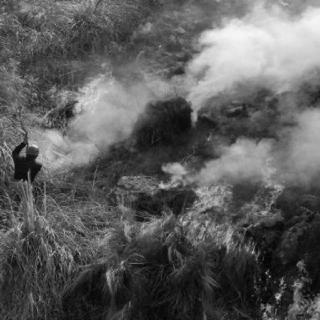Fire: (183, 170, 271, 257), (41, 68, 116, 136), (244, 262, 318, 318)
Smoke: (185, 22, 302, 104)
